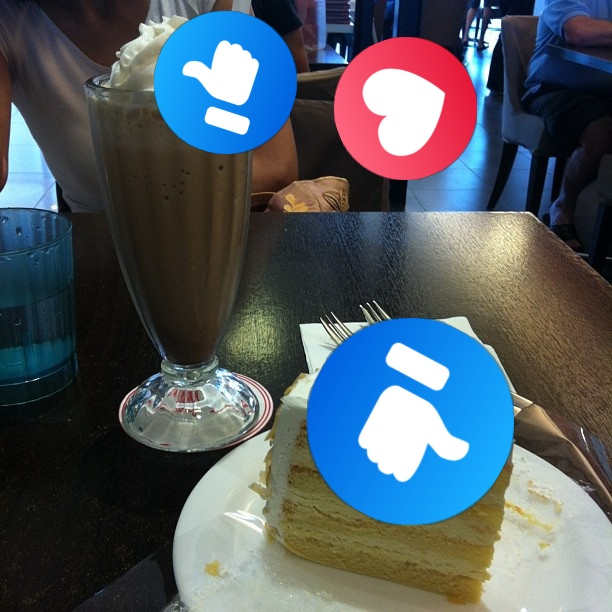like: (307, 318, 514, 525), (154, 11, 297, 154)
love: (334, 37, 477, 180)
